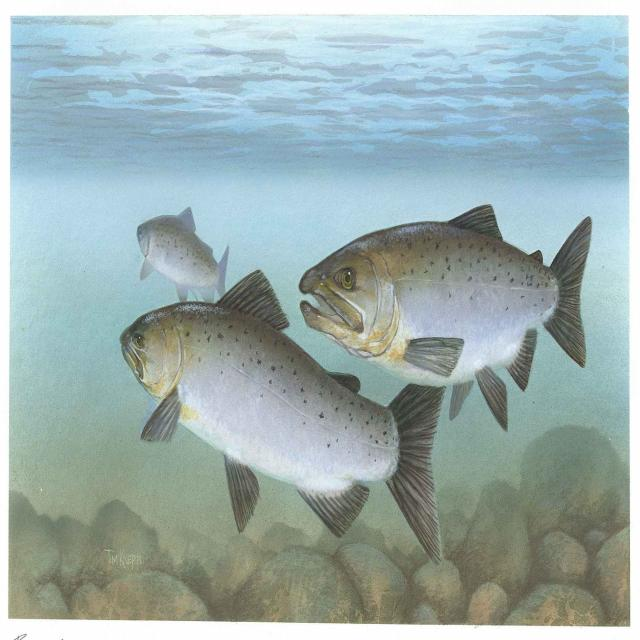grouper: (101, 264, 446, 574), (298, 184, 594, 438), (116, 191, 232, 303)
